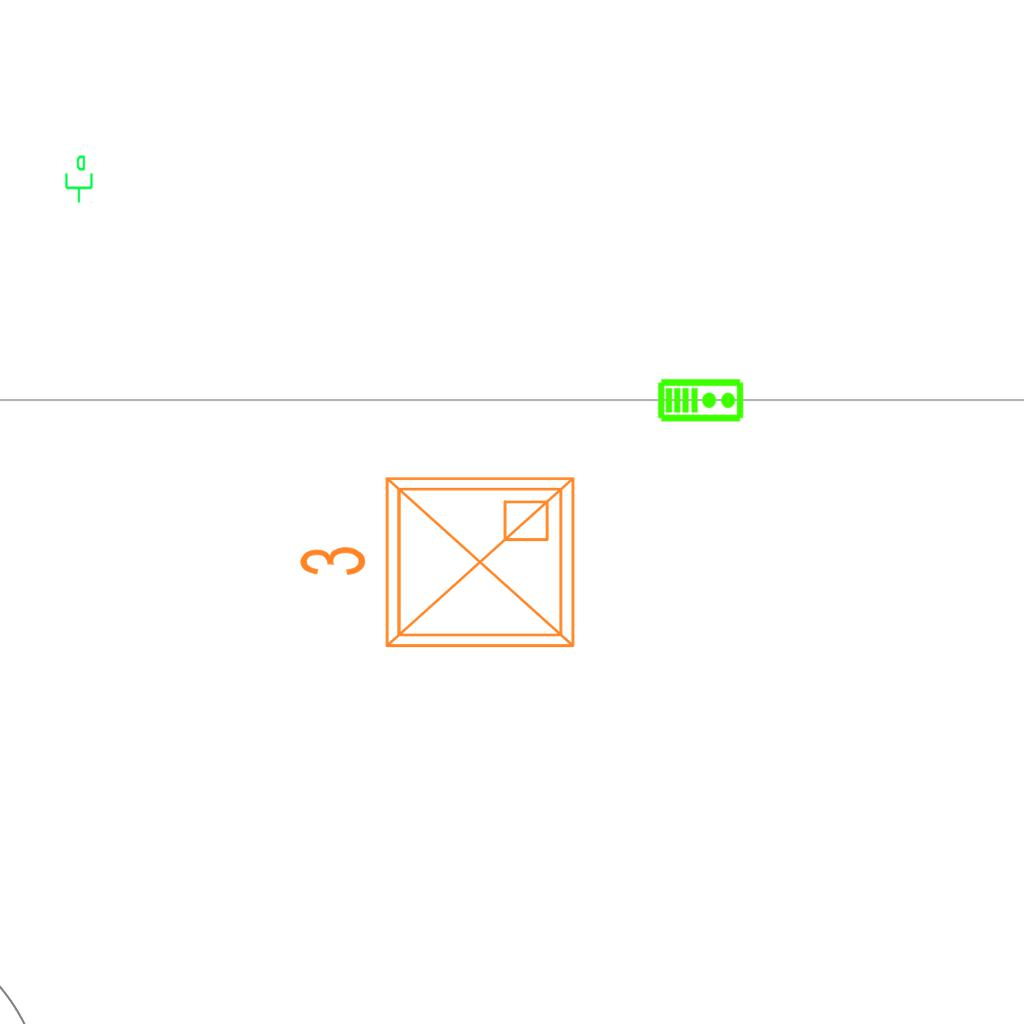Datenanschluss_einfach: (61, 154, 95, 204)
Einbaudownlights_LED_Konferenzraeume: (289, 462, 589, 670)
Gegensprechanlage_mit_Video: (657, 376, 745, 423)
